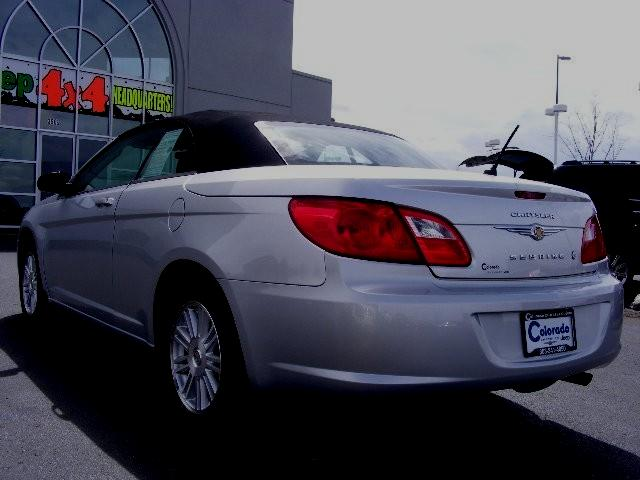Chrysler: (489, 218, 579, 245)
